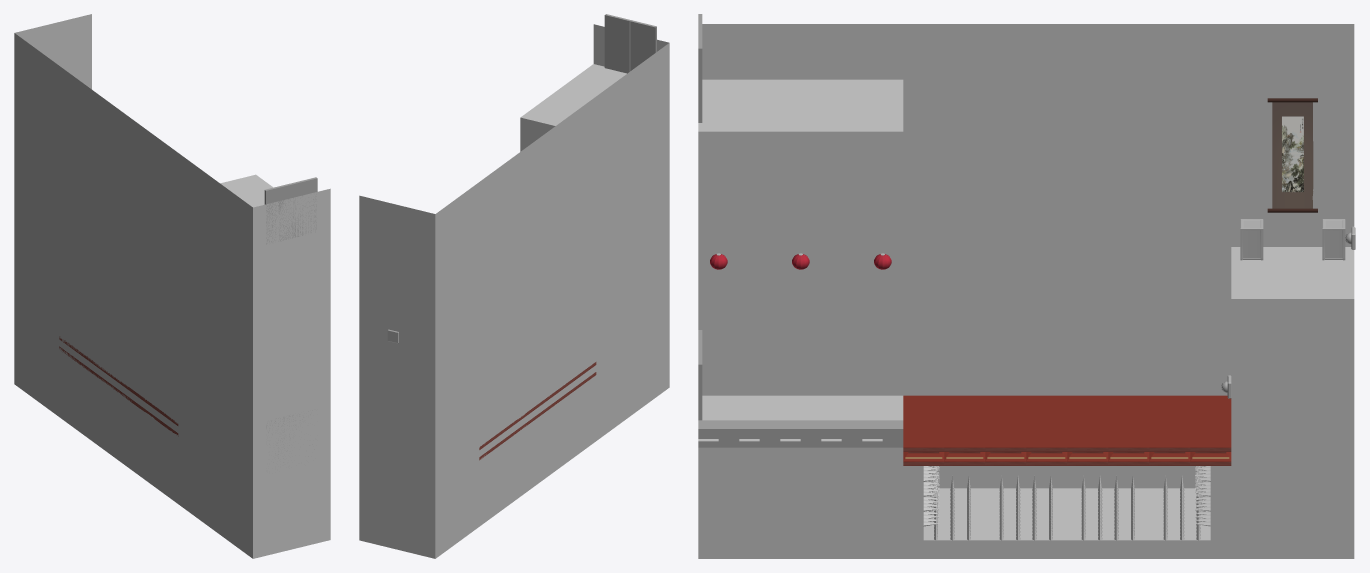
Rendered from Greybox_1.2_Assets.fbx.
The picture shows the model from 3 angles, left to right: view 1: azimuth 30°, elevation 25°; view 2: azimuth 150°, elevation 25°; view 3: azimuth 270°, elevation 25°; orthographic projection. The views are drawn at different scales.
Visible parts, largest first — view 1: pCube32, polySurface53, polySurface56, polySurface57, pCube86; view 2: pCube32, polySurface57, polySurface53, polySurface56, pCube86, SpikeTrap_18, SpikeTrap_15; view 3: pCube32, polySurface57, polySurface53, polySurface56, pPlane1, pCube77, SpikeTrap_9, SpikeTrap_6, pCube57, pCube59, pCube60, pCube61 (+18 smaller).
Part boxes in pixels (x1=…): pCube32: x1=14, y1=14, x2=330, y2=558; polySurface53: x1=178, y1=174, x2=330, y2=328; polySurface56: x1=178, y1=448, x2=318, y2=558; polySurface57: x1=14, y1=195, x2=59, y2=415; pCube86: x1=264, y1=177, x2=317, y2=244; pCube32: x1=359, y1=24, x2=669, y2=558; polySurface57: x1=359, y1=347, x2=478, y2=558; polySurface53: x1=520, y1=64, x2=669, y2=215; polySurface56: x1=596, y1=317, x2=669, y2=440; pCube86: x1=604, y1=14, x2=656, y2=73; SpikeTrap_18: x1=567, y1=428, x2=596, y2=462; SpikeTrap_15: x1=589, y1=375, x2=596, y2=432; pCube32: x1=698, y1=24, x2=1354, y2=488; polySurface57: x1=1231, y1=247, x2=1354, y2=558; polySurface53: x1=698, y1=79, x2=903, y2=242; polySurface56: x1=698, y1=395, x2=903, y2=558; pPlane1: x1=1272, y1=102, x2=1313, y2=208; pCube77: x1=698, y1=420, x2=903, y2=447; SpikeTrap_9: x1=985, y1=510, x2=1067, y2=558; SpikeTrap_6: x1=1067, y1=510, x2=1149, y2=558; pCube57: x1=944, y1=395, x2=985, y2=465; pCube59: x1=985, y1=395, x2=1026, y2=465; pCube60: x1=1026, y1=395, x2=1067, y2=465; pCube61: x1=1067, y1=395, x2=1108, y2=465.
Size of the model in its own units: 6.44 by 27 by 32.07.
